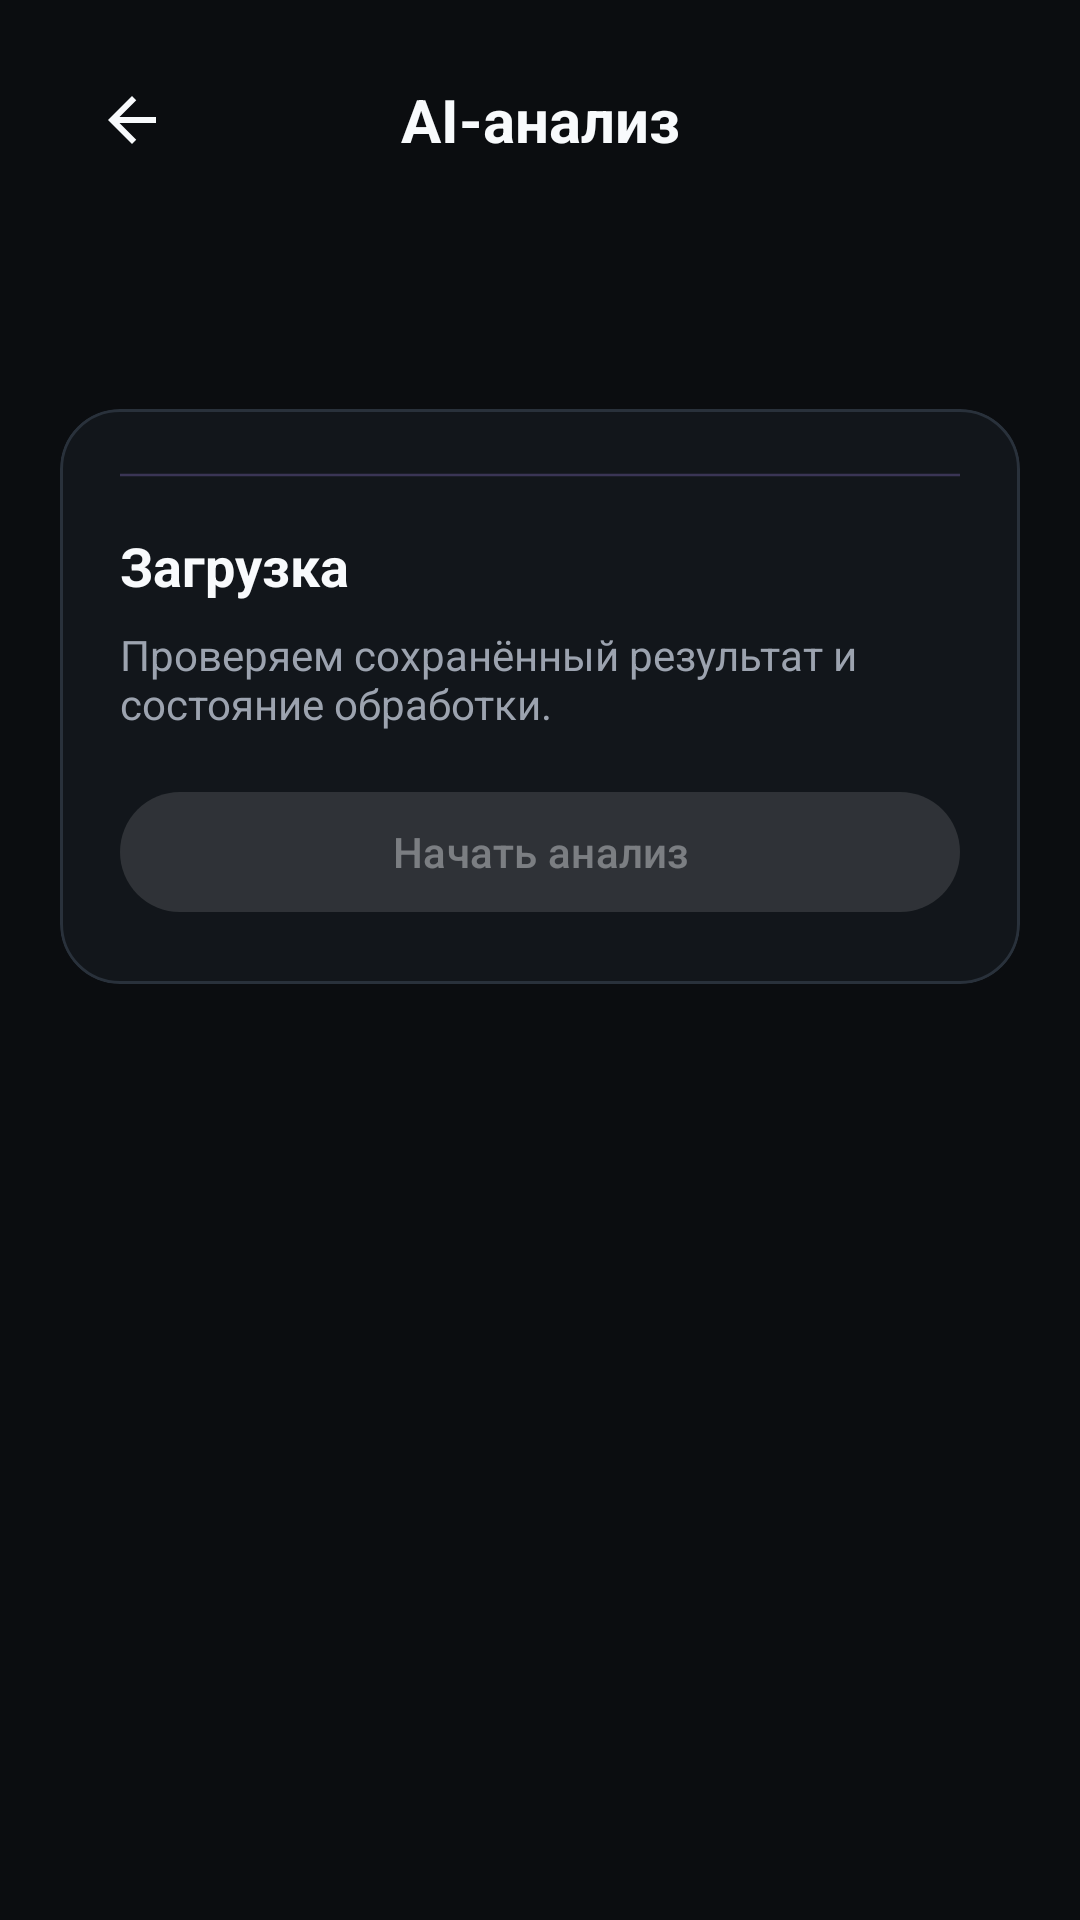

Screen size 1080 × 1920. Icon name, then its center in pixels as point (x, y):
Назад: point (132, 120)
